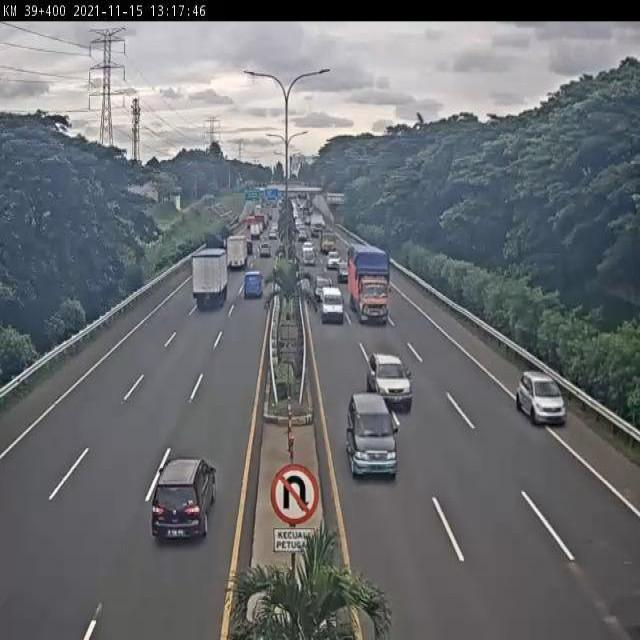car: (153, 457, 216, 543), (345, 391, 399, 480), (513, 367, 570, 428), (365, 349, 414, 414), (321, 283, 345, 324), (242, 266, 264, 302), (314, 274, 333, 302)
truck-l-: (346, 243, 393, 324)
truck-m-: (191, 242, 232, 306)
